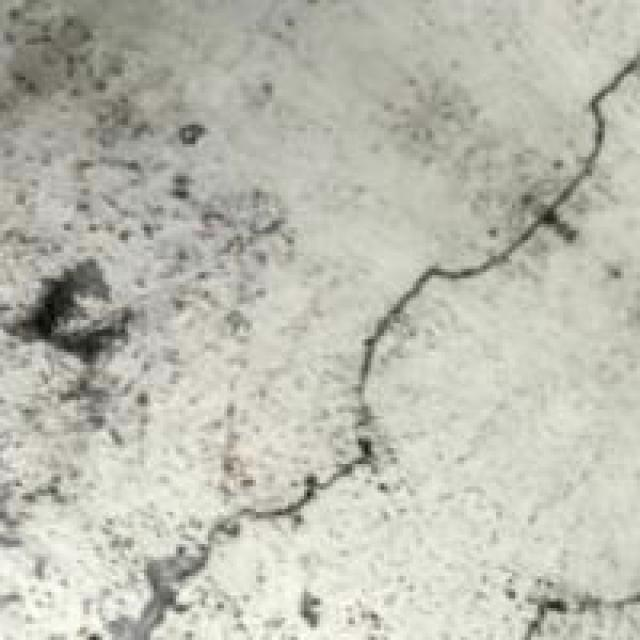SurfaceCrack: (112, 70, 640, 638)
